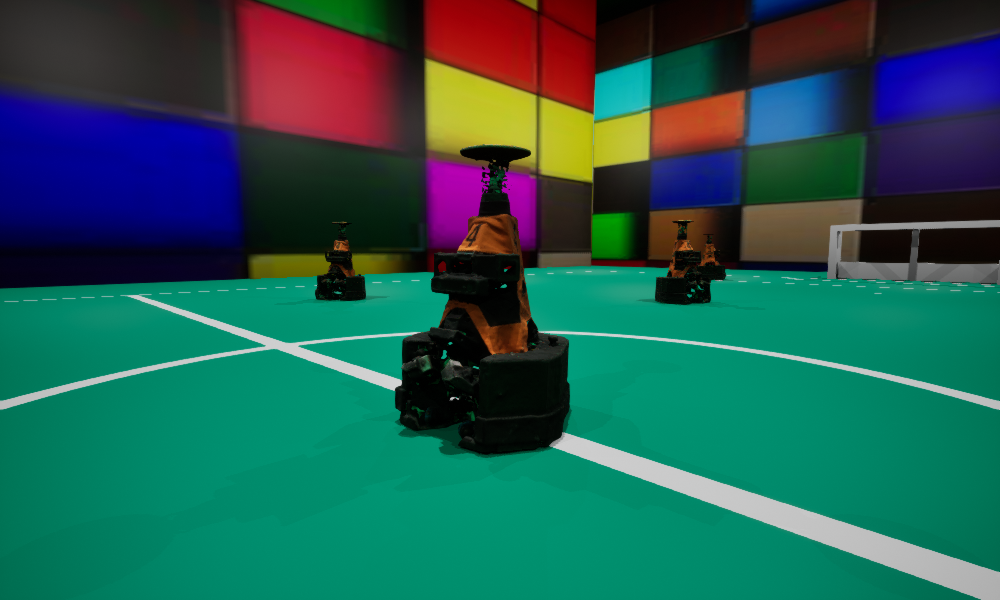0 orange robot TechUnited: (395, 144, 569, 451), (655, 220, 710, 304), (315, 222, 365, 299), (695, 234, 725, 279)
